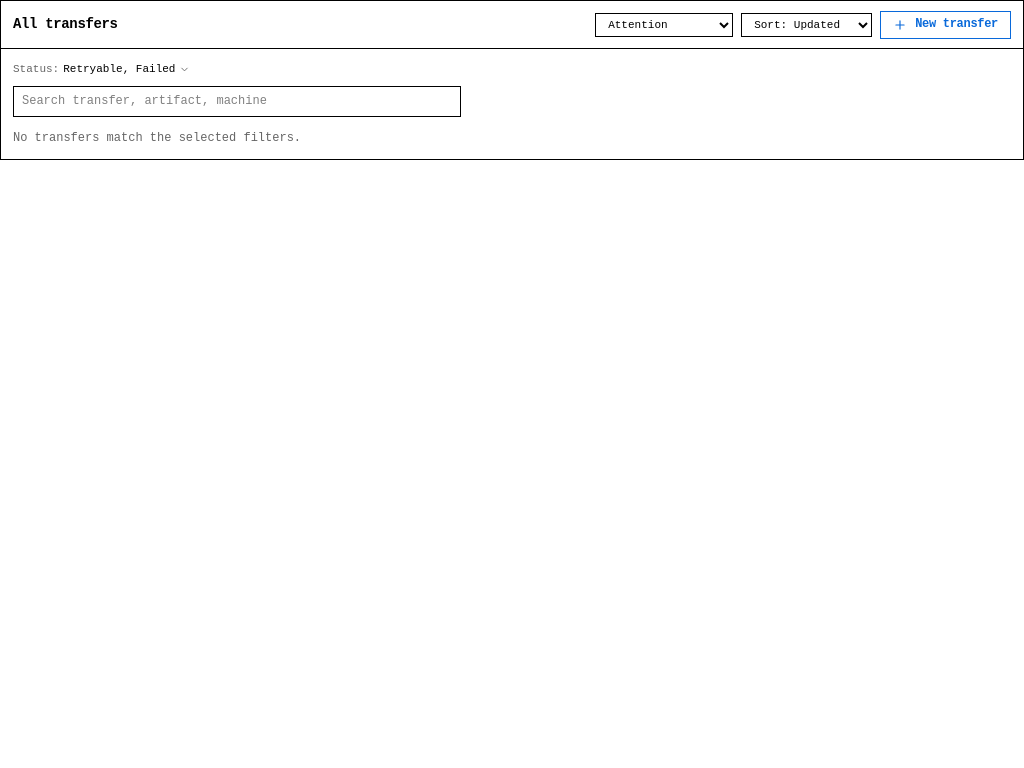
it: ResearchTransfersPage › manual status changes clear preset-specific filtering
Click the button with aria-label "transfer status filter": coordinates (102, 69) [13,61,190,78]
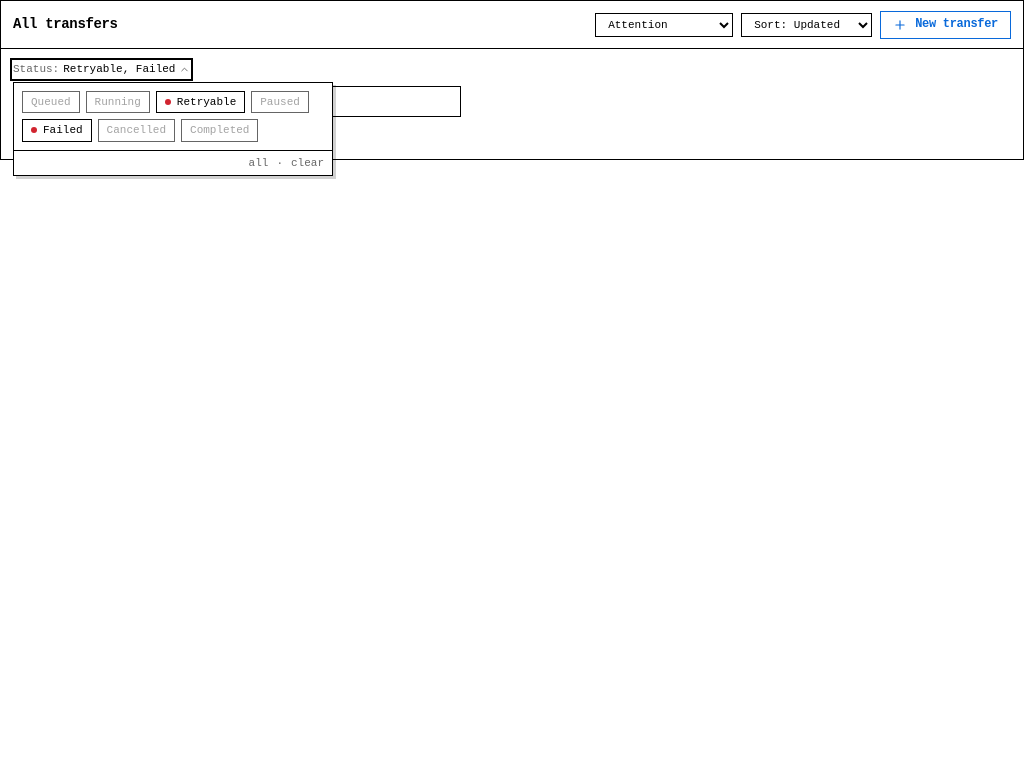
Click the button "clear": coordinates (308, 163) [291,154,324,171]
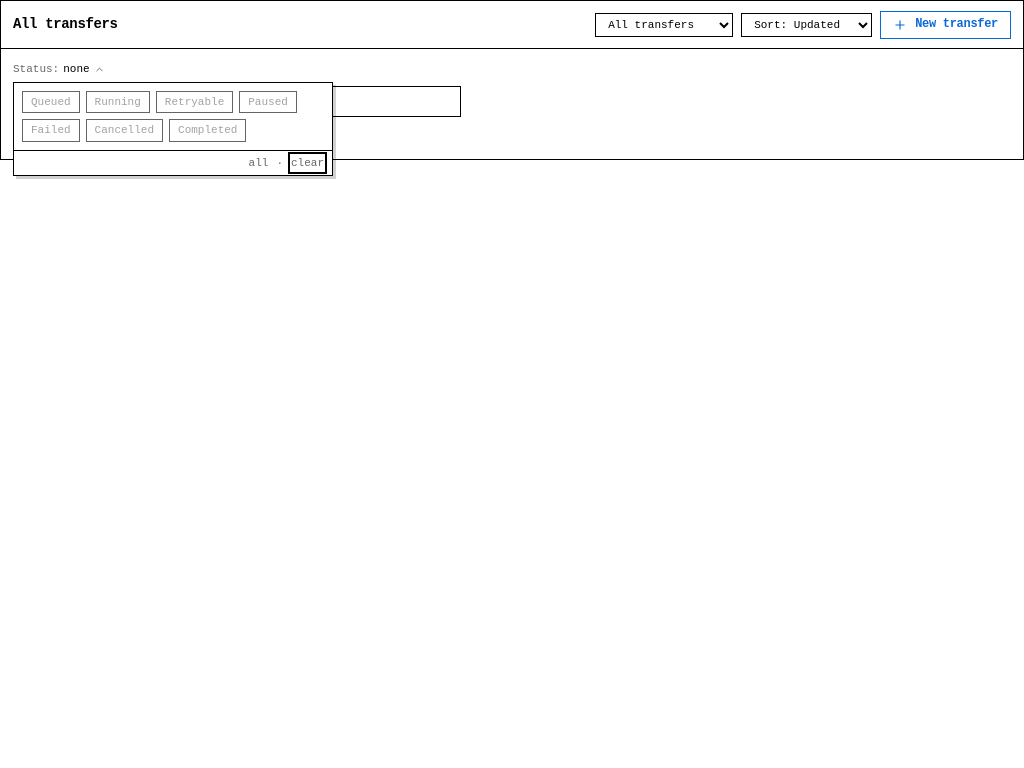
Click the button "Completed": coordinates (208, 130) [169,119,246,142]
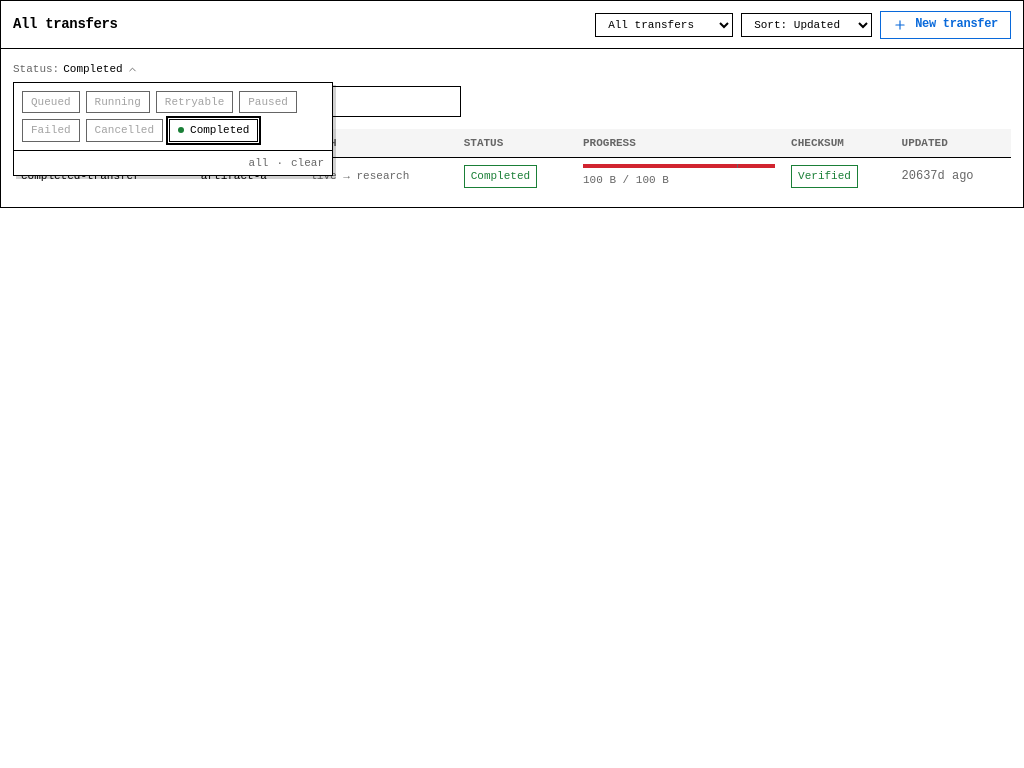
Expected: the dropdown named "transfer preset" shows "All transfers", [595,12,733,36]
Expected: the link "completed-transfer" is shown, [21,170,140,182]
